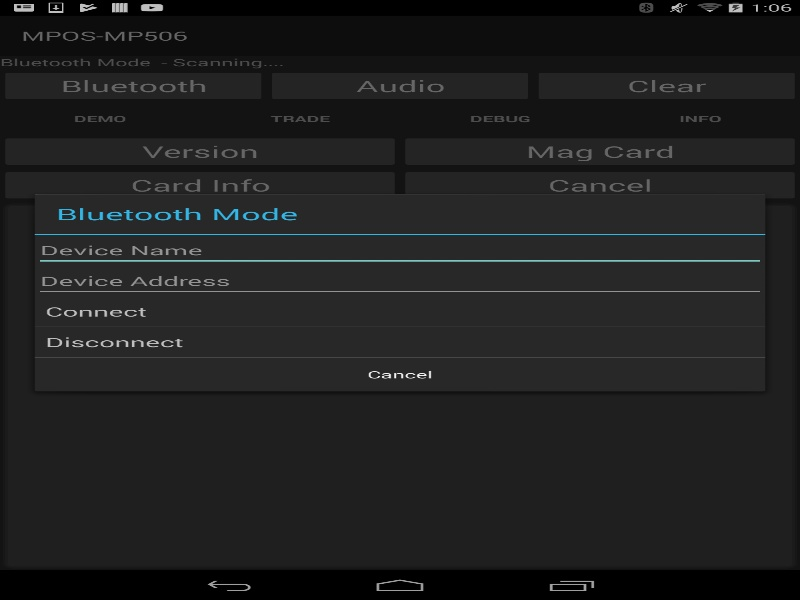Button: (34, 357, 765, 391)
Input: (34, 265, 765, 296), (34, 235, 765, 265)
